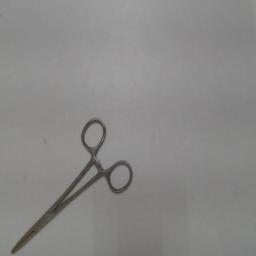Mayo Needle Holder: (5, 110, 141, 254)
